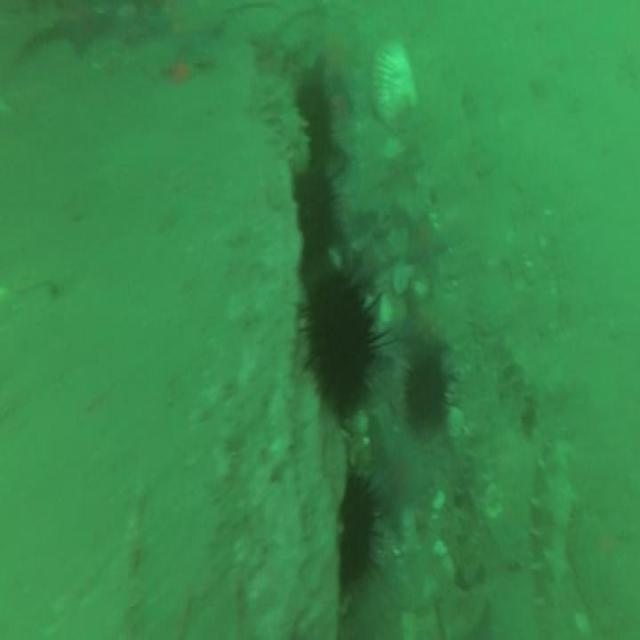echinus: (306, 281, 372, 406), (338, 482, 372, 586), (298, 174, 336, 254), (406, 357, 446, 428), (300, 82, 332, 146)
holothurian: (529, 436, 573, 616), (258, 76, 304, 160)
scallop: (373, 41, 419, 128)
starfish: (366, 412, 431, 526), (173, 19, 224, 69), (405, 208, 443, 272)
